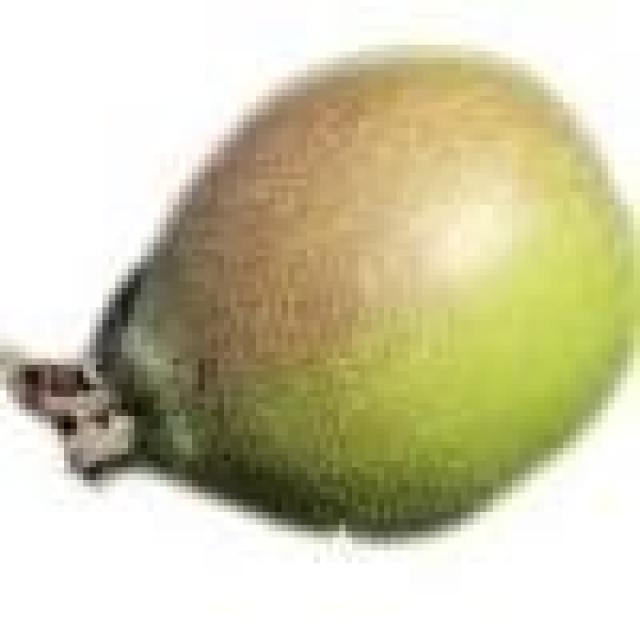Rotten Apple: (6, 45, 634, 544)
